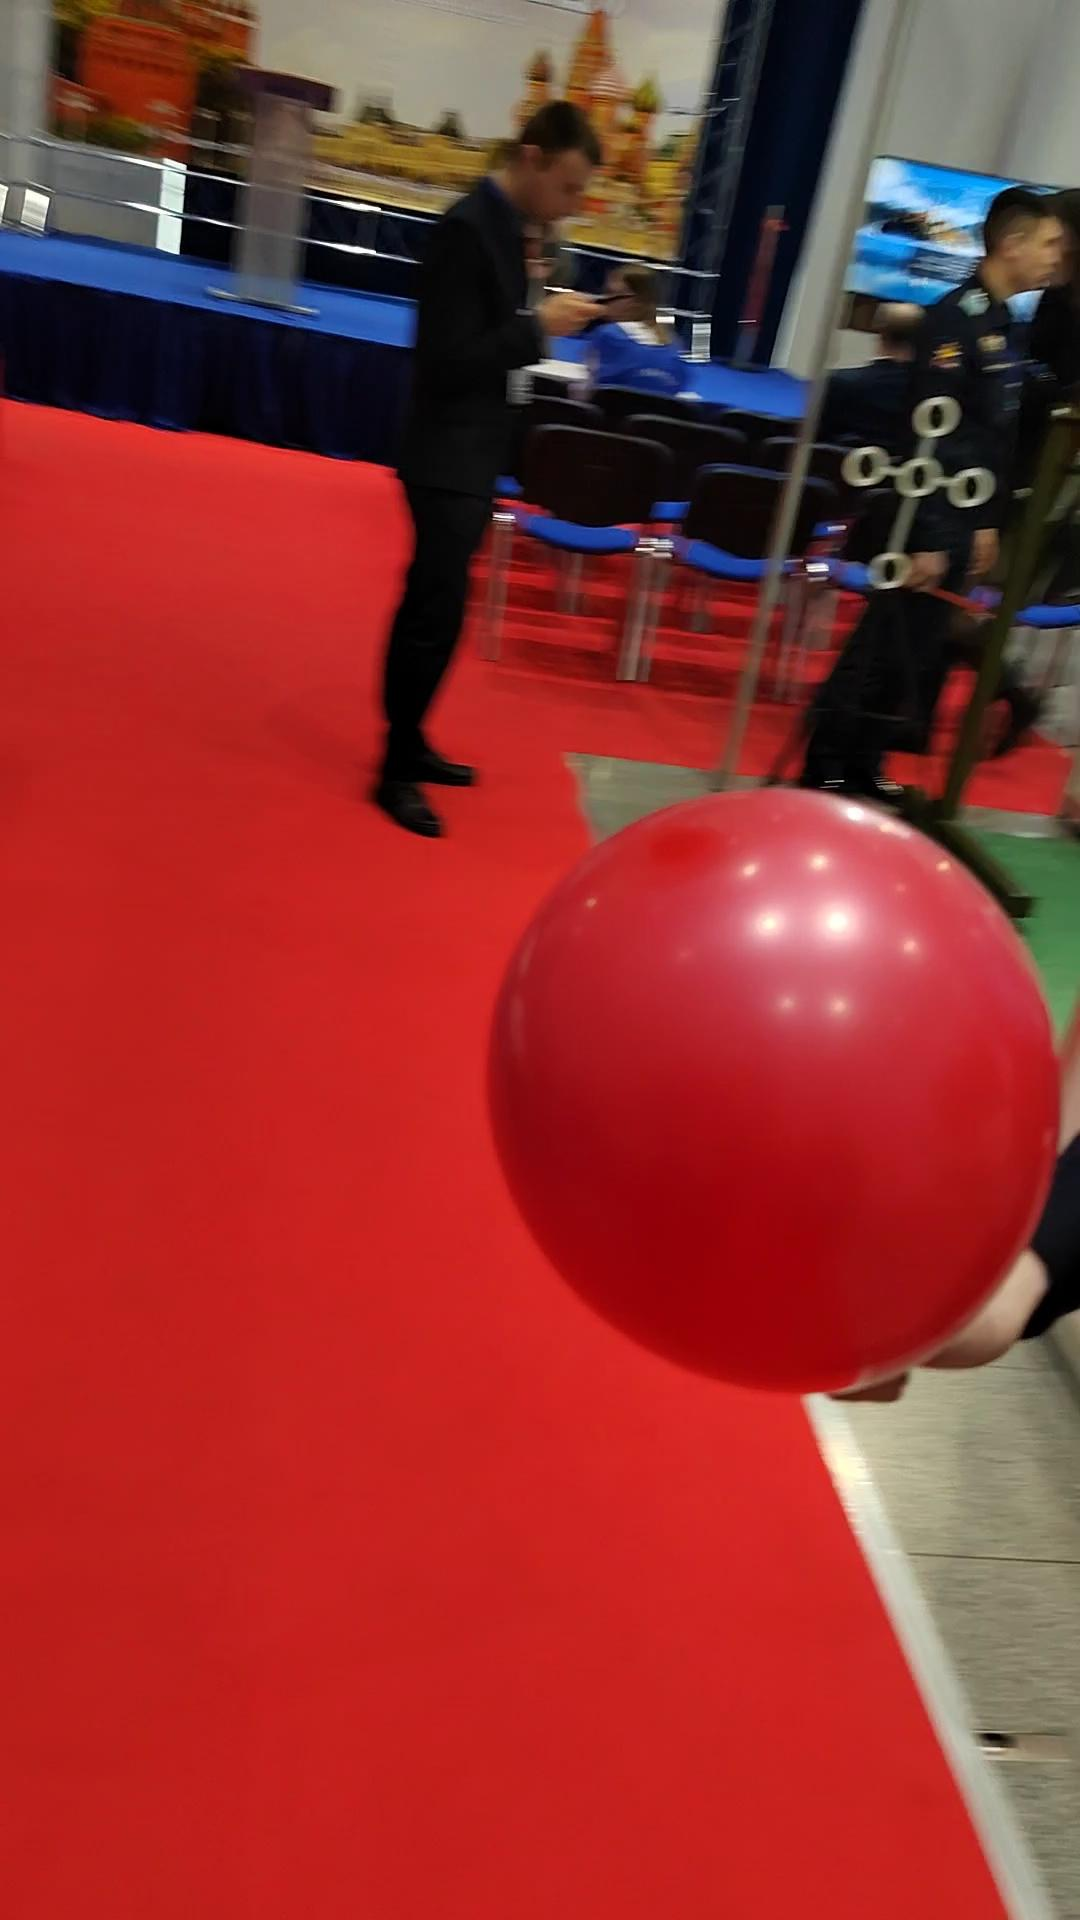red: (497, 764, 1064, 1398)
